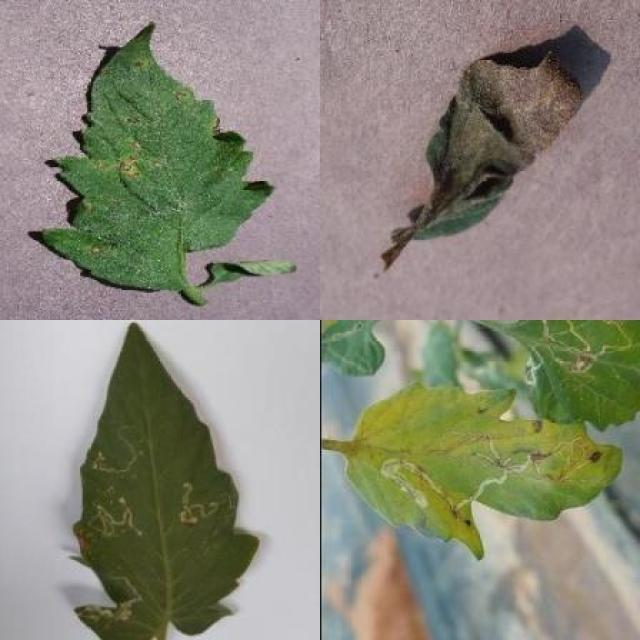Late Blight: (409, 47, 581, 240)
Leaf Miner: (72, 321, 258, 640), (344, 382, 622, 564)
Septoria: (36, 22, 275, 292)
